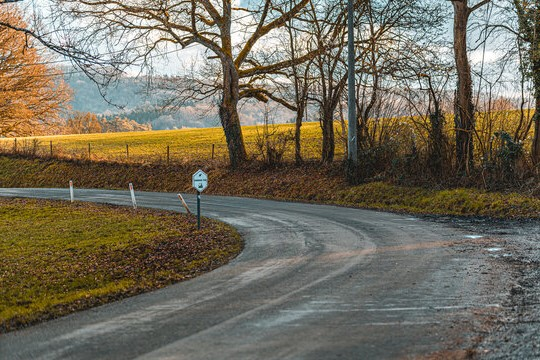leftTrun: (217, 198, 482, 352)
